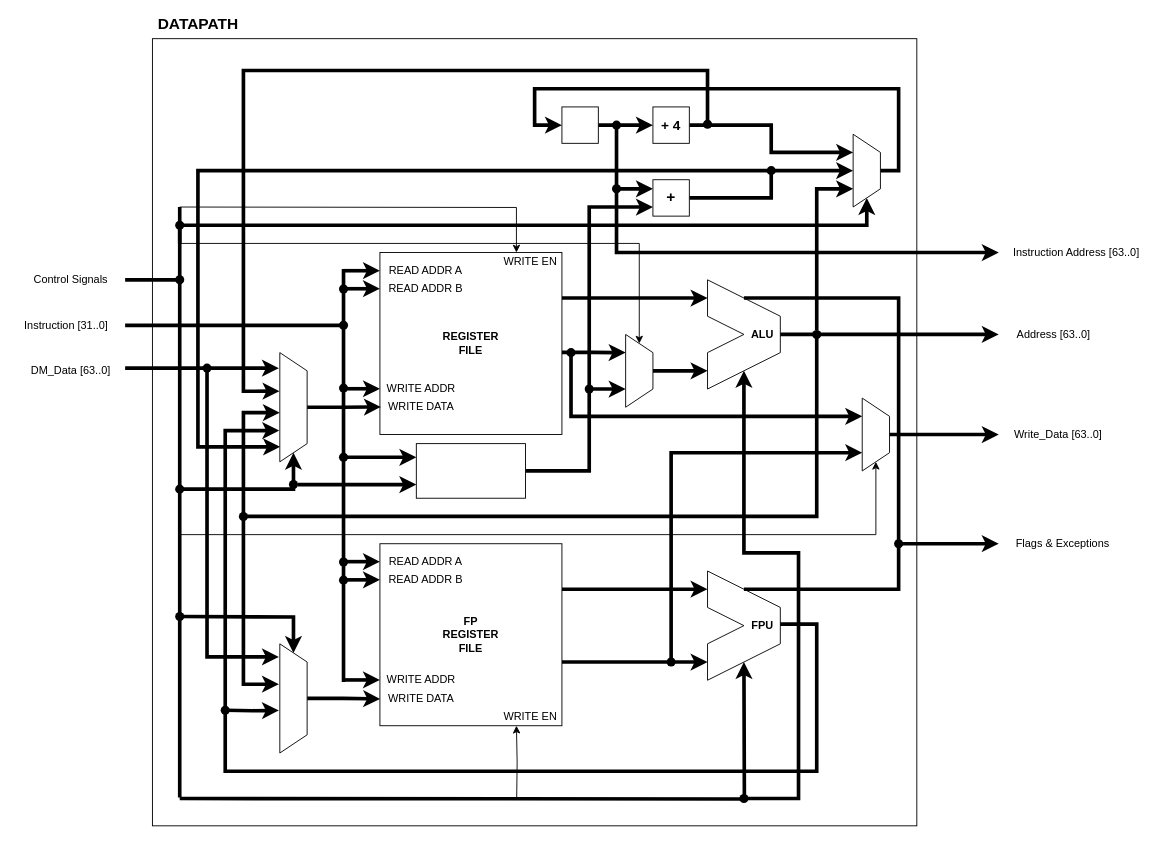
Image size: 1159x842. Some labels were removed from this diagram. The shapes that lost their labels are listed below. From the top down, each one's centre as x and y in pixels, then its label:
At pixel 579 124: "PC".
At pixel 470 470: "IMMEDIATE GENARATOR".
